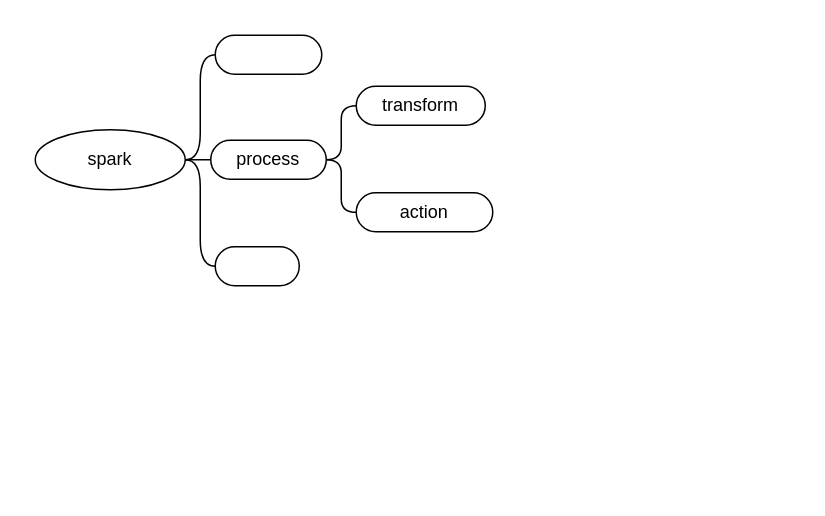
The diagram is 825 pixels wide and 516 high, and some of its shapes have lost their labels. The shapes that lost their labels are listed below. From the top down, each one's box as (x1, y1, x2, y2) in pixels, then its label:
(214, 34, 322, 74): source
(214, 245, 299, 286): sink
